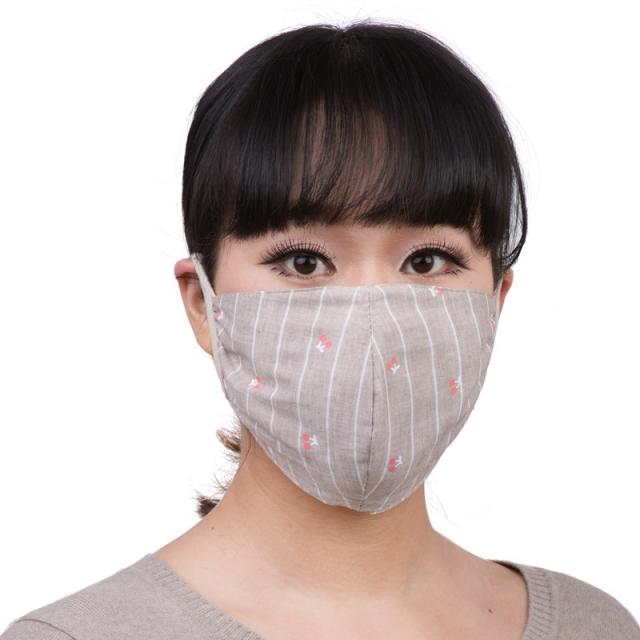mask: (215, 132, 495, 506)
